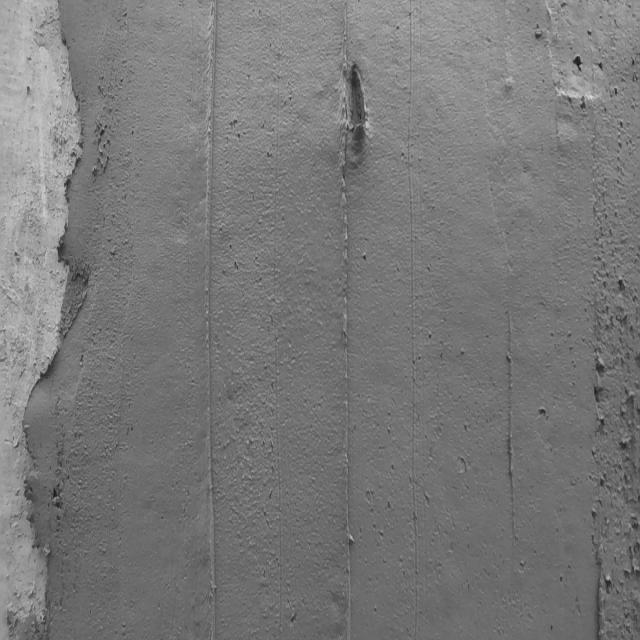trowels marks: (197, 0, 227, 636), (404, 0, 428, 640), (337, 1, 359, 640), (502, 299, 526, 557)
